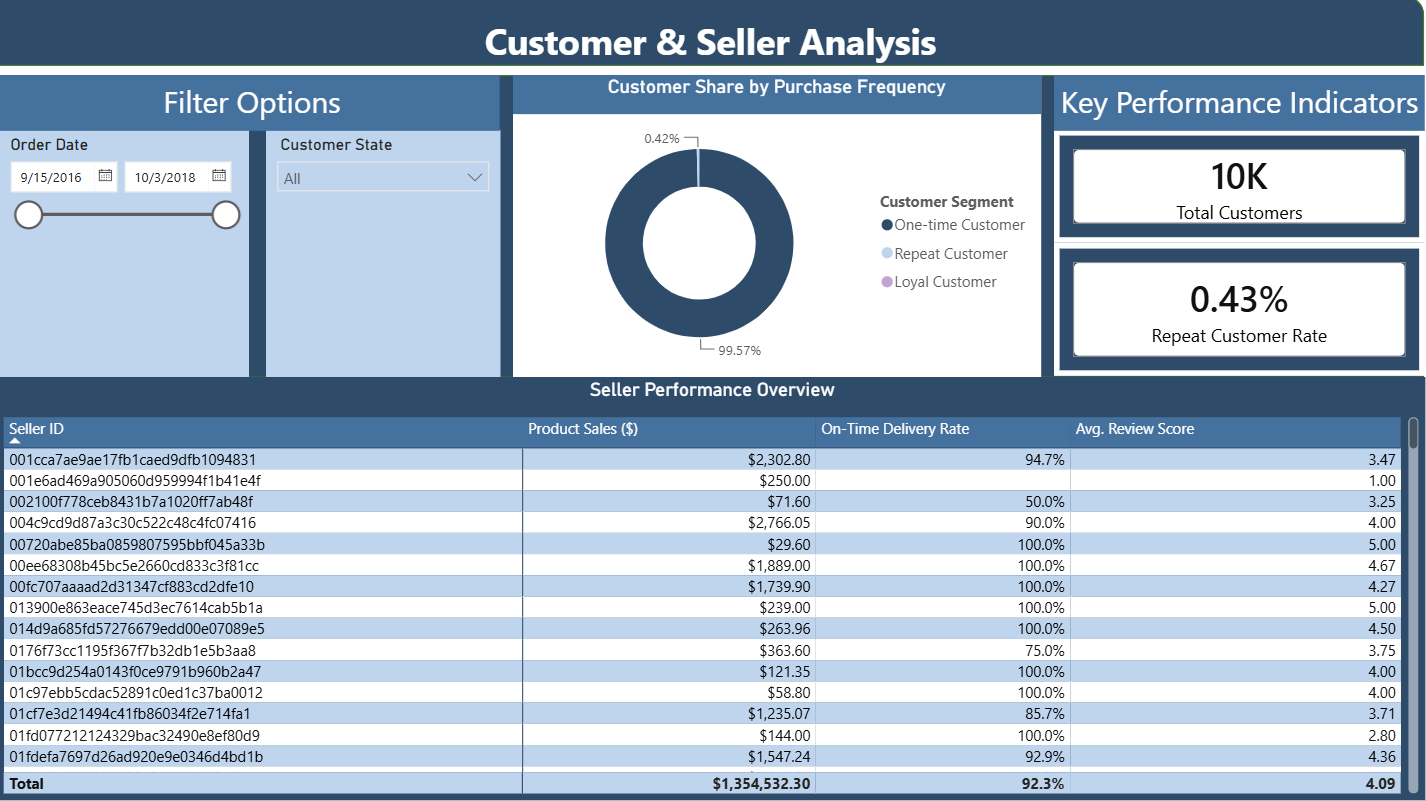

Layout of this report page (visuals, bound fields, positions):
{"tool":"powerbi","page":{"name":"Customer & Seller Analysis","canvas":[1280,720],"ordinal":1},"visuals":[{"type":"shape","box":[0,69.5,1278.8,271.1],"z":0},{"type":"shape","box":[0,0,1278.9,61.7],"z":1000},{"type":"textbox","box":[355.7,11.4,568.6,79.9],"z":2000},{"type":"slicer","fields":{"Values":["olist_portfolio orders.order_purchase_timestamp"]},"box":[0,119,226.3,221.6],"z":3000},{"type":"slicer","fields":{"Values":["olist_portfolio customers.customer_state"]},"box":[241.6,119,209.8,221.6],"z":4000},{"type":"donutChart","title":"Customer Share by Purchase Frequency","fields":{"Category":["olist_portfolio customers.customer_segment"],"Y":["olist_portfolio category_translation.Total Customers"]},"box":[463.2,69.5,472.6,271.1],"z":5000},{"type":"pivotTable","title":"Seller Performance Overview","fields":{"Rows":["olist_portfolio sellers.seller_id"],"Values":["olist_portfolio category_translation.Total Sales","olist_portfolio category_translation.On-Time Delivery %","olist_portfolio reviews.Avg Review Score"]},"box":[1,340.4,1279,379.3],"z":6000},{"type":"textbox","box":[0,69.5,451.4,49.5],"z":7000},{"type":"cardVisual","fields":{"Data":["olist_portfolio category_translation.Total Customers"]},"box":[947.6,119,332.4,101.4],"z":8000},{"type":"textbox","box":[947.6,69.5,332.4,49.5],"z":9000},{"type":"cardVisual","fields":{"Data":["olist_portfolio category_translation.Repeat Customer Rate"]},"box":[947.6,220.4,332.4,119],"z":10000}]}

Visuals, with their boxes in screenshot pixels (x1, y1, x2, y2), scaled from the page's 1280x720 canvas onto the 1426x801 screenshot:
shape: locate(0, 77, 1425, 379)
shape: locate(0, 0, 1425, 69)
textbox: locate(396, 13, 1030, 102)
slicer - olist_portfolio orders.order_purchase_timestamp: locate(0, 132, 252, 379)
slicer - olist_portfolio customers.customer_state: locate(269, 132, 503, 379)
"Customer Share by Purchase Frequency" donutChart: locate(516, 77, 1043, 379)
"Seller Performance Overview" pivotTable: locate(1, 379, 1425, 800)
textbox: locate(0, 77, 503, 132)
cardVisual - olist_portfolio category_translation.Total Customers: locate(1056, 132, 1425, 245)
textbox: locate(1056, 77, 1425, 132)
cardVisual - olist_portfolio category_translation.Repeat Customer Rate: locate(1056, 245, 1425, 378)
